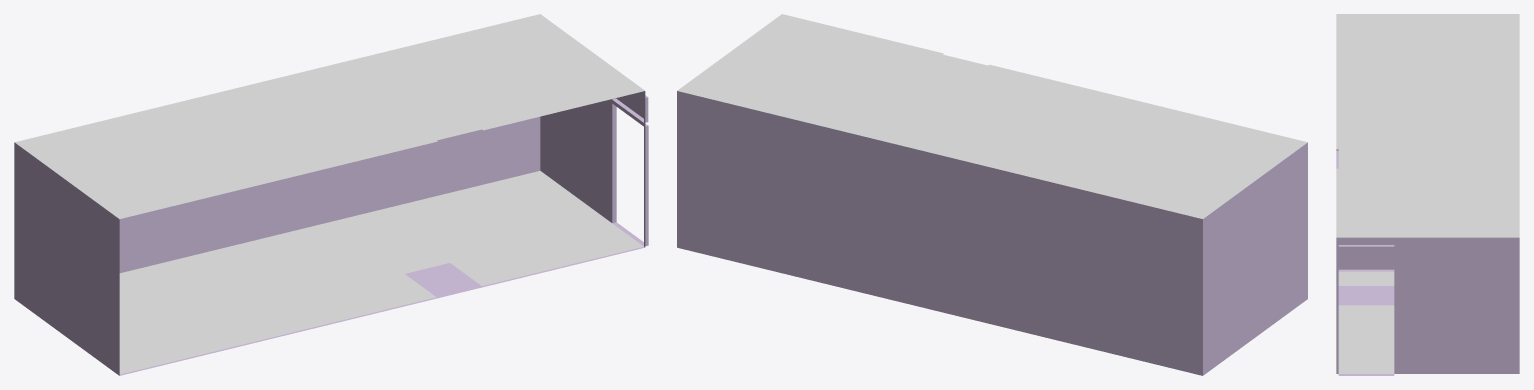
Rendered from tembok.fbx.
3 renders of one model, left to right at view 1: azimuth 30°, elevation 25°; view 2: azimuth 150°, elevation 25°; view 3: azimuth 270°, elevation 25°, orthographic. The views are drawn at different scales.
Parts seen in each view (by area): view 1: walls; view 2: walls; view 3: walls.
Part boxes in pixels (x1,y1,x2,y2): walls: (14,14,648,375); walls: (677,14,1307,375); walls: (1336,14,1519,375).
Bounding box in the file's own units: 4743 × 1340 × 1628.
